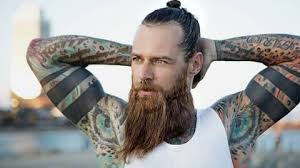b.y: (129, 81, 174, 150)
